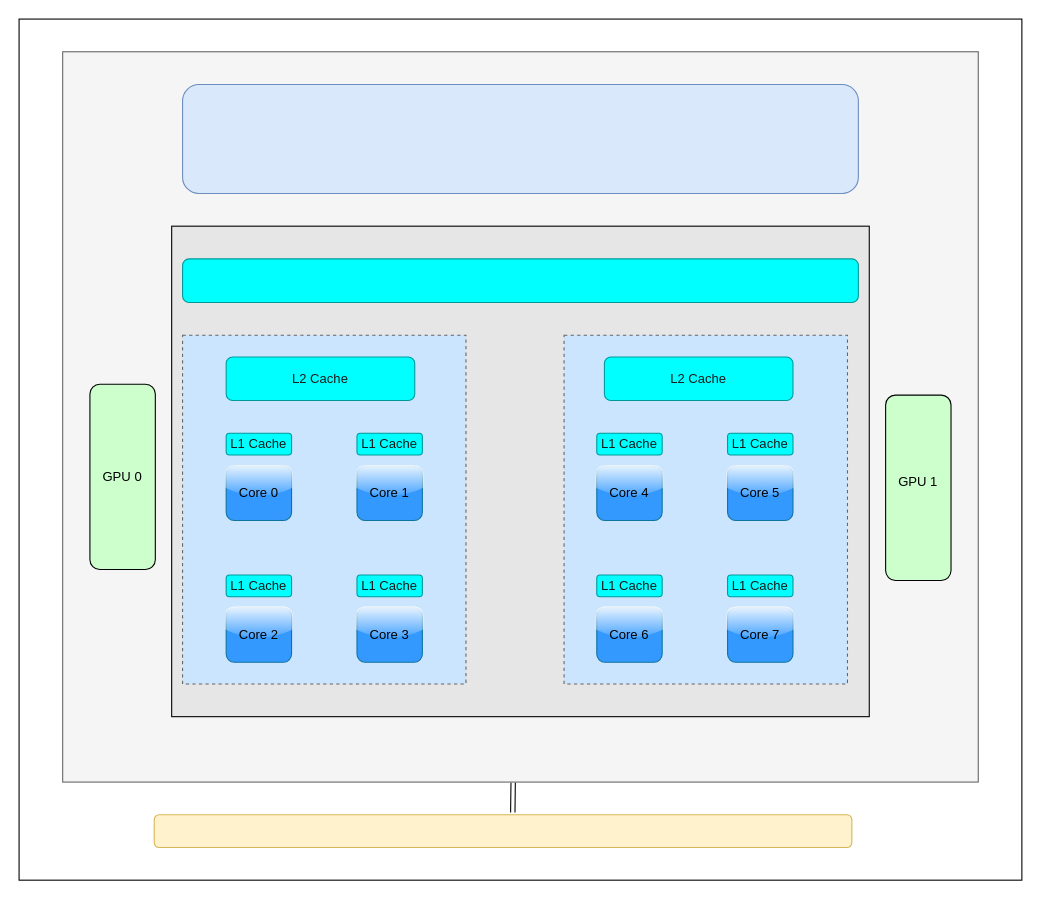
This 1041x899 diagram has some shape labels left out. Each missing label, with the centre of its shape:
"L3 Cache" goes at point 519,280.
"Memory" goes at point 519,138.
"Network" goes at point 502,830.
